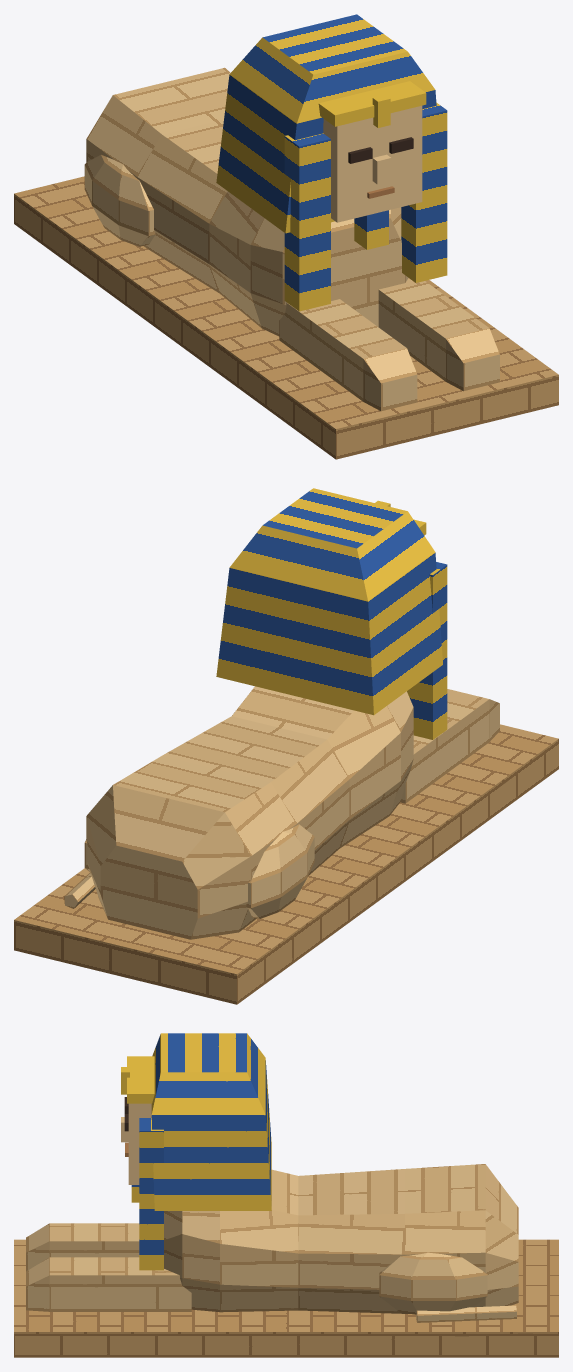
Rendered from sphinx.glb.
3 renders of one model, top to bottom at view 1: azimuth 30°, elevation 25°; view 2: azimuth 150°, elevation 25°; view 3: azimuth 270°, elevation 25°, orthographic. The views are drawn at different scales.
Parts seen in each view (by area): view 1: sphinx; view 2: sphinx; view 3: sphinx.
Boxes of the visible parts, x1,y1,x2,y2 form: sphinx: (14,14,558,459); sphinx: (14,488,558,1004); sphinx: (14,1033,558,1357).
Size of the model in its own units: 0.92 by 1.21 by 2.3.
7 materials, 3 textured.
